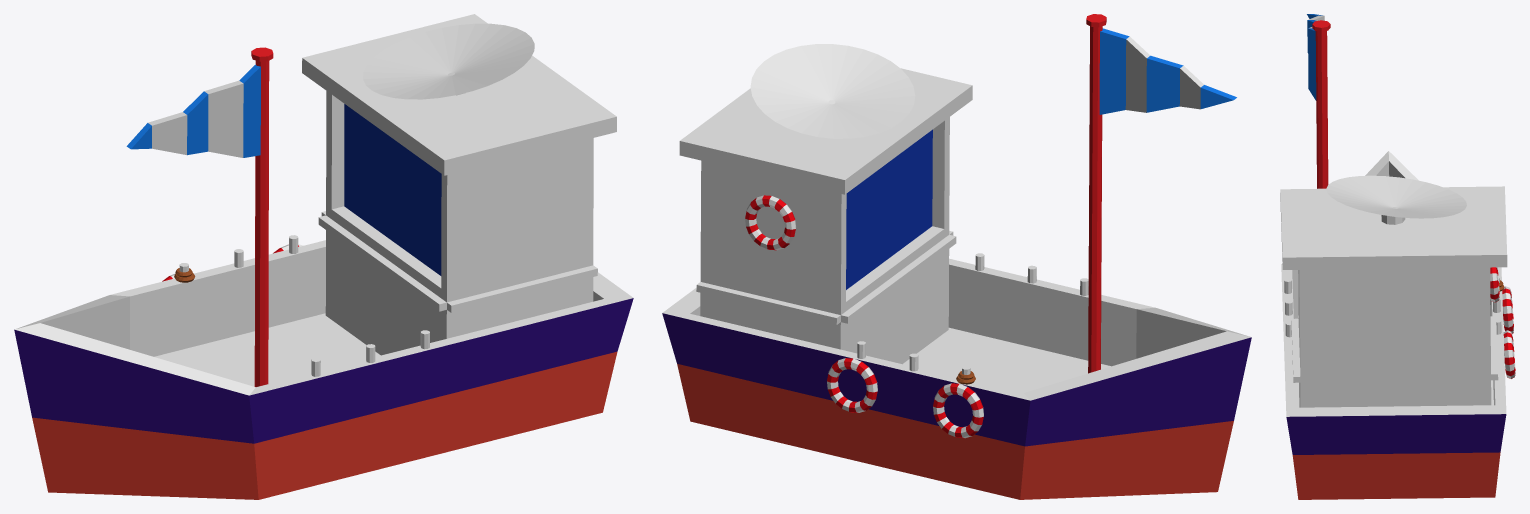
3 views of the same model, side by side, from view 1: azimuth 30°, elevation 25°; view 2: azimuth 150°, elevation 25°; view 3: azimuth 270°, elevation 25° (orthographic). The views are drawn at different scales.
Visible parts, largest first — view 1: 平面.013, 柱体.003, 平面.014, 柱体.001, 柱体.002; view 2: 平面.013, 柱体.003, 平面.014, 柱体.001, 环体.001, 环体.002, 环体.004, 柱体.002; view 3: 平面.013, 柱体.003, 柱体.001, 平面.014, 柱体.002, 环体.002, 环体.001, 环体.004.
Boxes of the visible parts, x1,y1,x2,y2 form: 平面.013: (14,14,633,499); 柱体.003: (363,23,534,99); 平面.014: (126,64,260,157); 柱体.001: (251,47,273,386); 柱体.002: (179,235,429,376); 平面.013: (662,68,1251,499); 柱体.003: (750,44,915,138); 平面.014: (1099,28,1236,114); 柱体.001: (1086,14,1106,373); 环体.001: (933,383,983,438); 环体.002: (827,358,877,412); 环体.004: (745,195,795,250); 柱体.002: (857,253,1088,374); 平面.013: (1280,151,1507,499); 柱体.003: (1326,175,1466,218); 柱体.001: (1312,20,1330,188); 平面.014: (1307,14,1324,100); 柱体.002: (1284,277,1501,337); 环体.002: (1503,330,1515,378); 环体.001: (1502,286,1513,333); 环体.004: (1490,267,1499,302).
Bounding box in the file's own units: 238 × 176 × 108.
